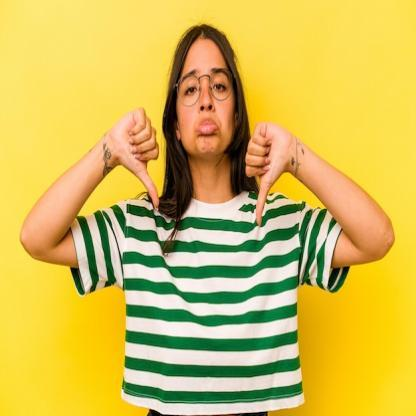thumb_down: (242, 116, 292, 230), (111, 102, 162, 212)
